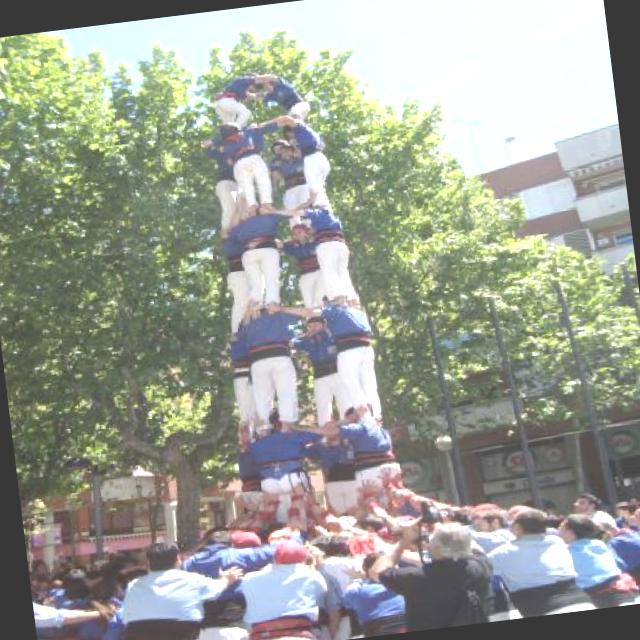Person: (22, 447, 640, 640), (294, 388, 402, 505), (275, 194, 364, 316), (234, 397, 326, 508), (222, 196, 292, 320), (326, 293, 382, 422), (238, 300, 295, 426), (258, 110, 328, 211), (288, 314, 348, 426), (214, 118, 274, 226), (306, 416, 364, 515), (268, 214, 326, 311), (202, 64, 284, 131), (218, 330, 268, 432), (260, 133, 316, 210), (215, 230, 252, 330), (254, 68, 316, 126), (208, 131, 241, 228), (269, 138, 288, 154)
